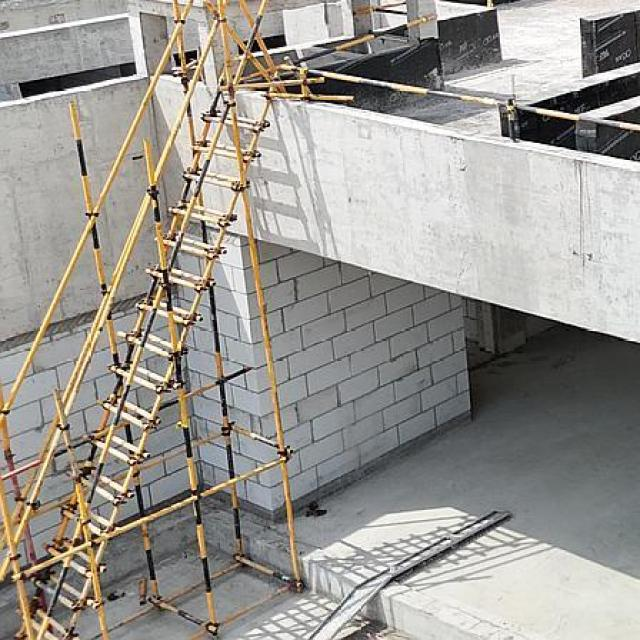edge_guardrail: (277, 64, 640, 144), (291, 13, 439, 66)
